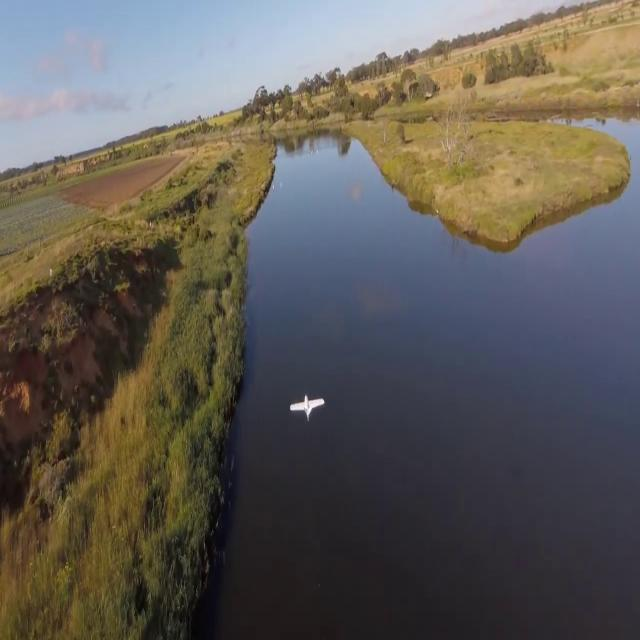iha: (289, 393, 325, 426)
